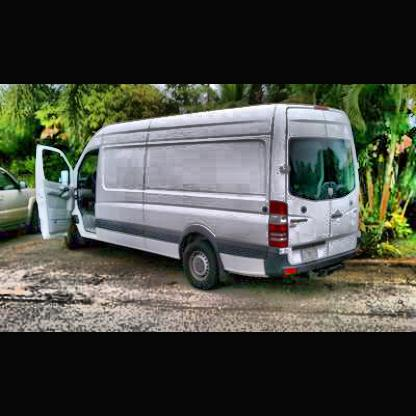Dodge Sprinter Cargo Van 2009: (35, 104, 361, 291)
